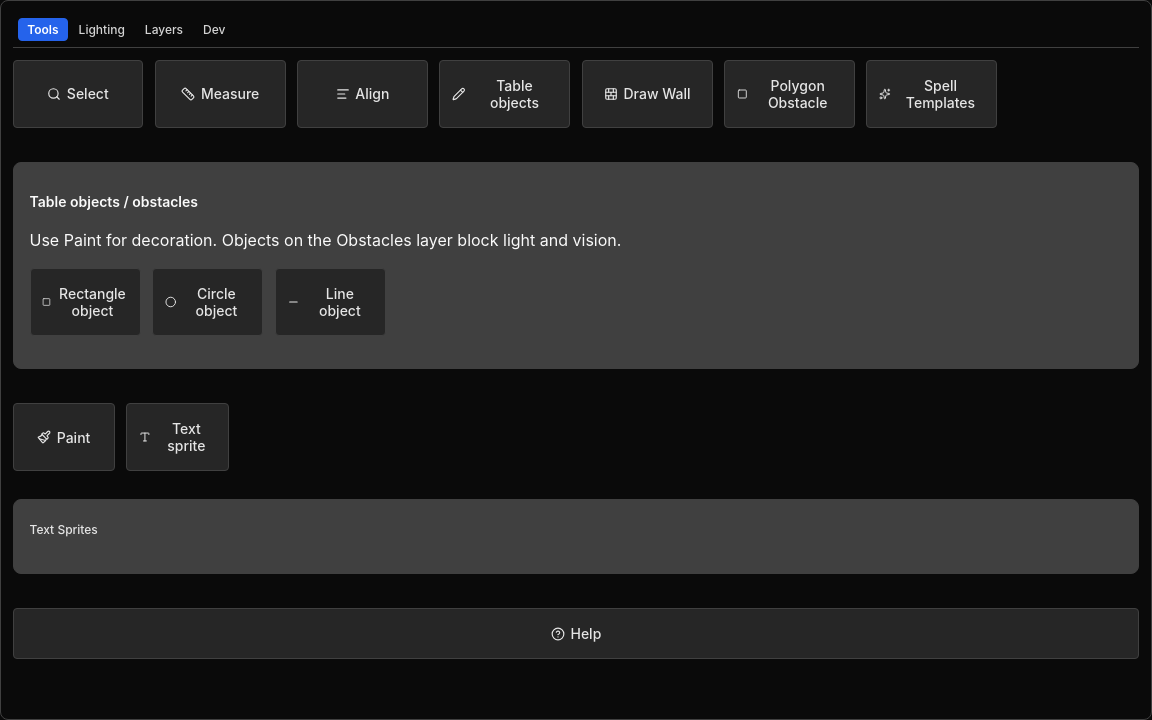
it: ToolsPanel — DM Layers tab › clicking Layers tab shows layer switcher with Map/Tokens/DM/Light buttons
The image size is (1152, 720).
Click the tab "Layers".
click(164, 30)  # box [136,18,192,41]
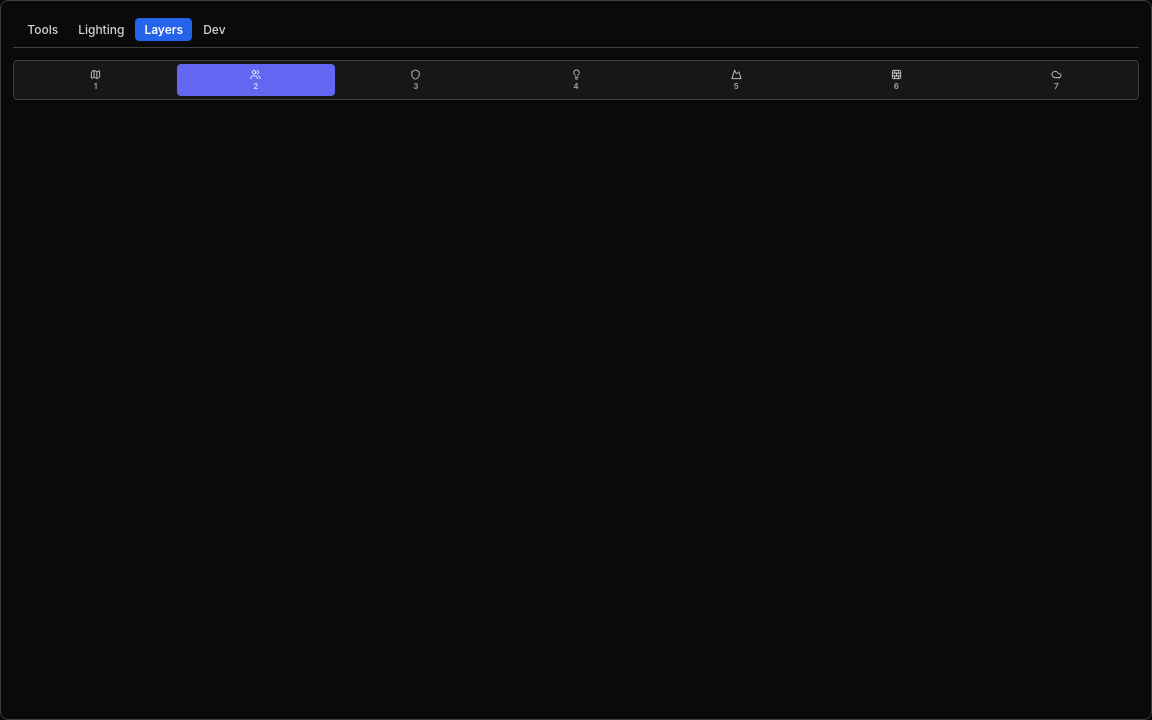
Check: the button titled "Map layer [1]" is shown, box [16,64,175,96]
Check: the button titled "Tokens layer [2]" is shown, box [177,64,335,96]
Check: the button titled "DM layer [3]" is shown, box [337,64,495,96]
